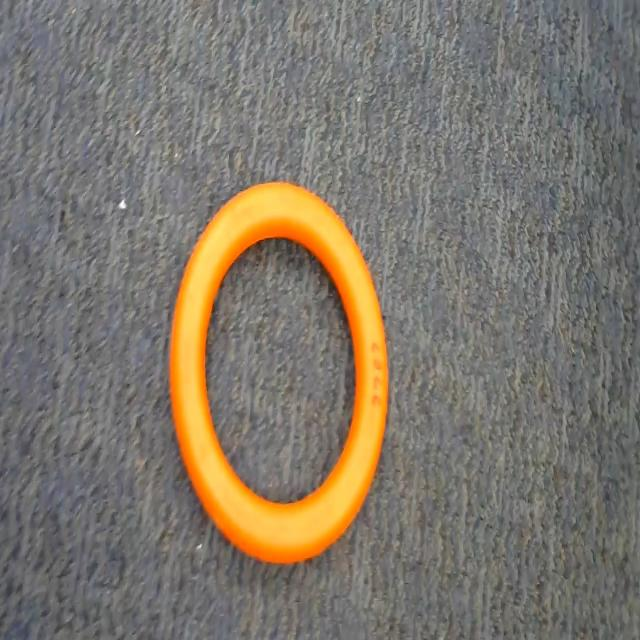note: (142, 172, 420, 573)
